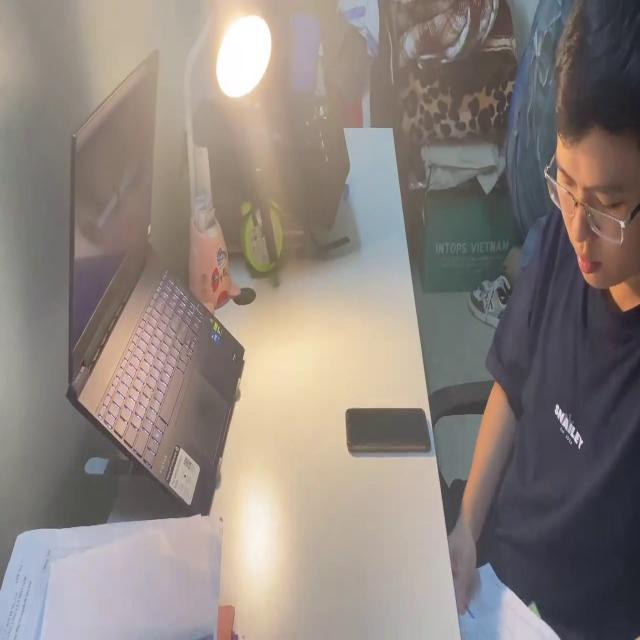book: (0, 511, 234, 640), (455, 553, 561, 640)
laptop: (61, 45, 245, 510)
phone: (344, 396, 433, 459)
student: (445, 0, 640, 640)
